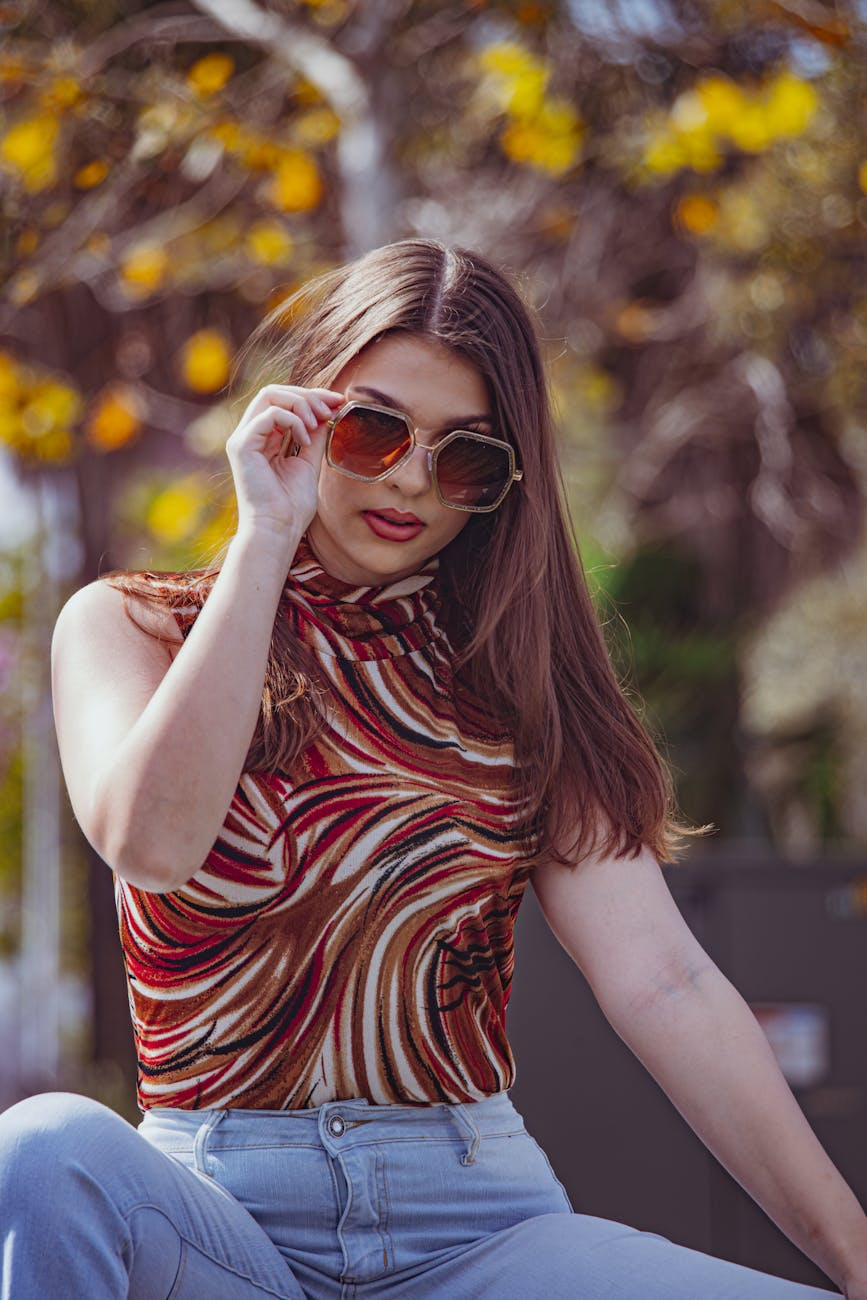sleeveless_top: (81, 572, 568, 1103)
